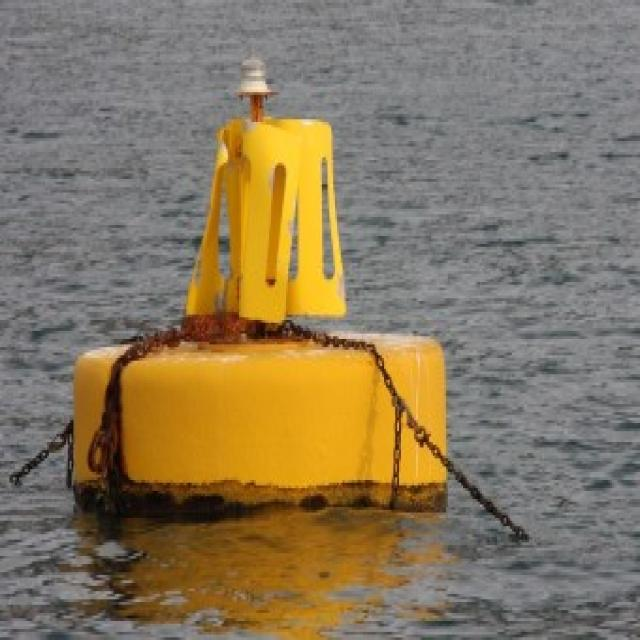2.5 sepcial mark: (49, 49, 474, 527)
